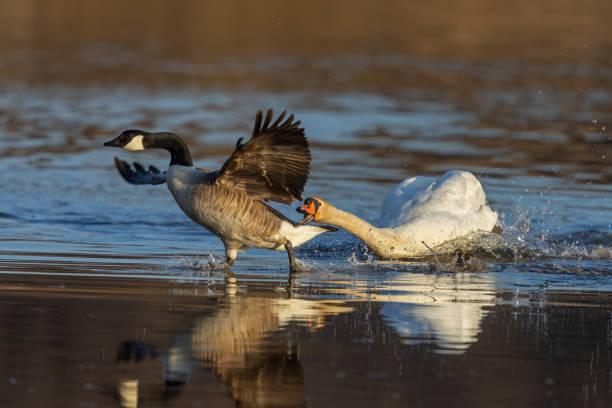Canadian-Goose: (101, 105, 322, 273)
